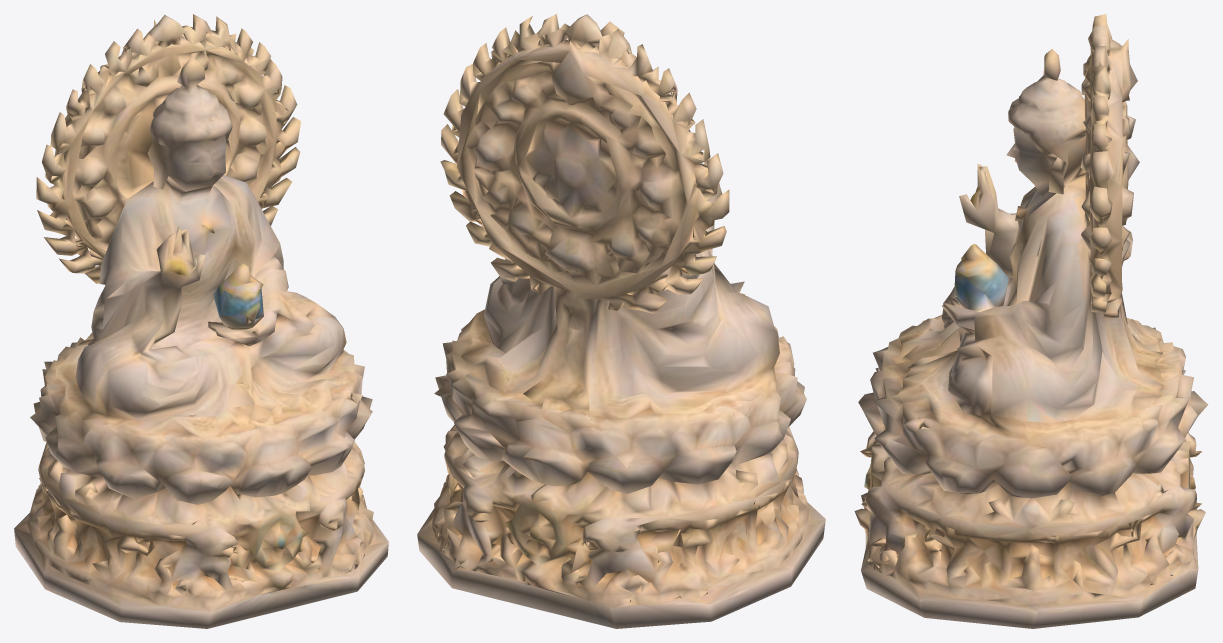
File: far.glb
The picture shows the model from 3 angles, left to right: view 1: azimuth 30°, elevation 25°; view 2: azimuth 150°, elevation 25°; view 3: azimuth 270°, elevation 25°; orthographic projection. The views are drawn at different scales.
Parts seen in each view (by area): view 1: four-heavenly-kings-05; view 2: four-heavenly-kings-05; view 3: four-heavenly-kings-05.
Part boxes in pixels (box(x1,y1,x2,y2)): four-heavenly-kings-05: box(14, 14, 388, 628); four-heavenly-kings-05: box(417, 14, 825, 628); four-heavenly-kings-05: box(854, 14, 1208, 628).
Size of the model in its own units: 0.6359 by 0.9895 by 0.6046.
Materials: 1 (1 with a texture image).
